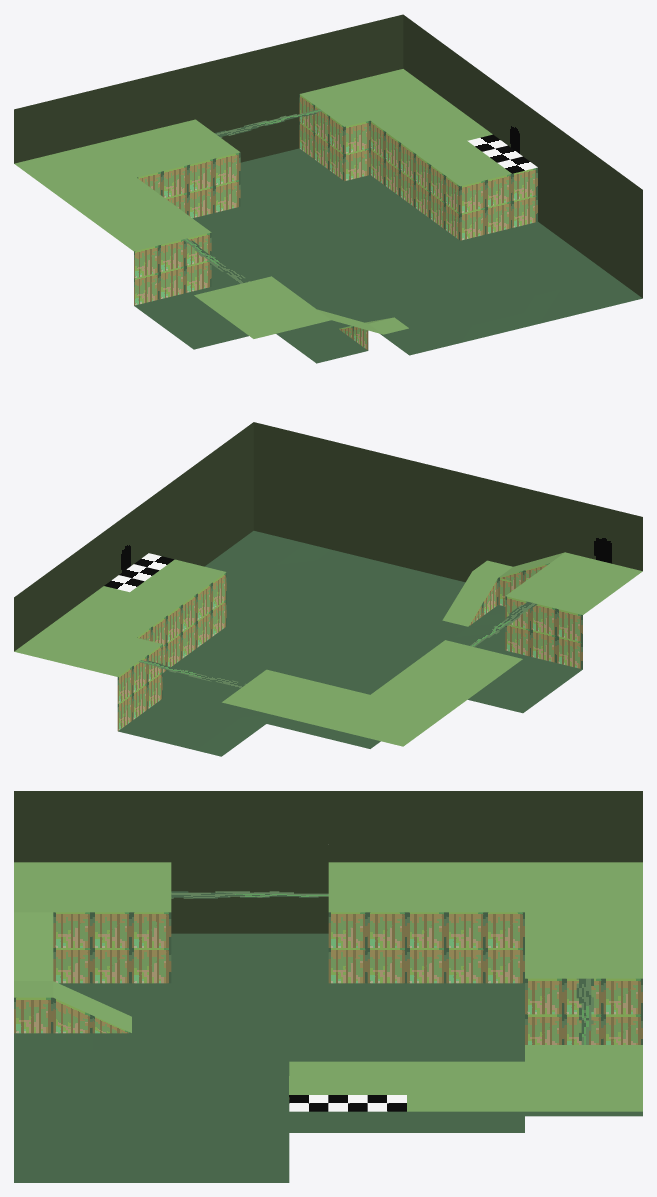
Rendered from LevelTwo_Clean.gltf.
3 views of the same model, one above another, from view 1: azimuth 30°, elevation 25°; view 2: azimuth 150°, elevation 25°; view 3: azimuth 270°, elevation 25° (orthographic). The views are drawn at different scales.
Size of the model in its own units: 15 by 5 by 16.
3 materials, 3 textured.
